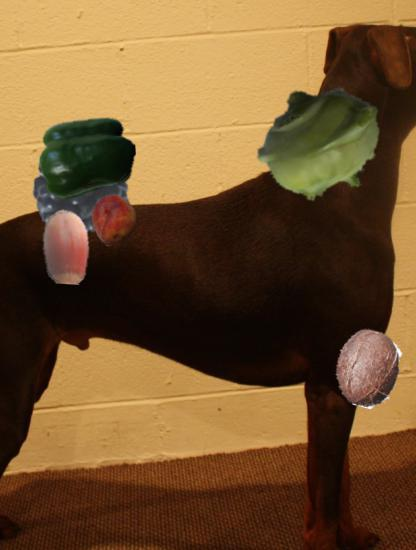Cocos: (331, 329, 411, 409)
Hazelnut: (28, 208, 104, 284)
Kohlrabi: (256, 76, 389, 209)
Mulberry: (28, 137, 140, 249)
Peach: (88, 195, 140, 247)
Pepper: (39, 110, 137, 208)
